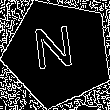N_S: (35, 25, 82, 81)
